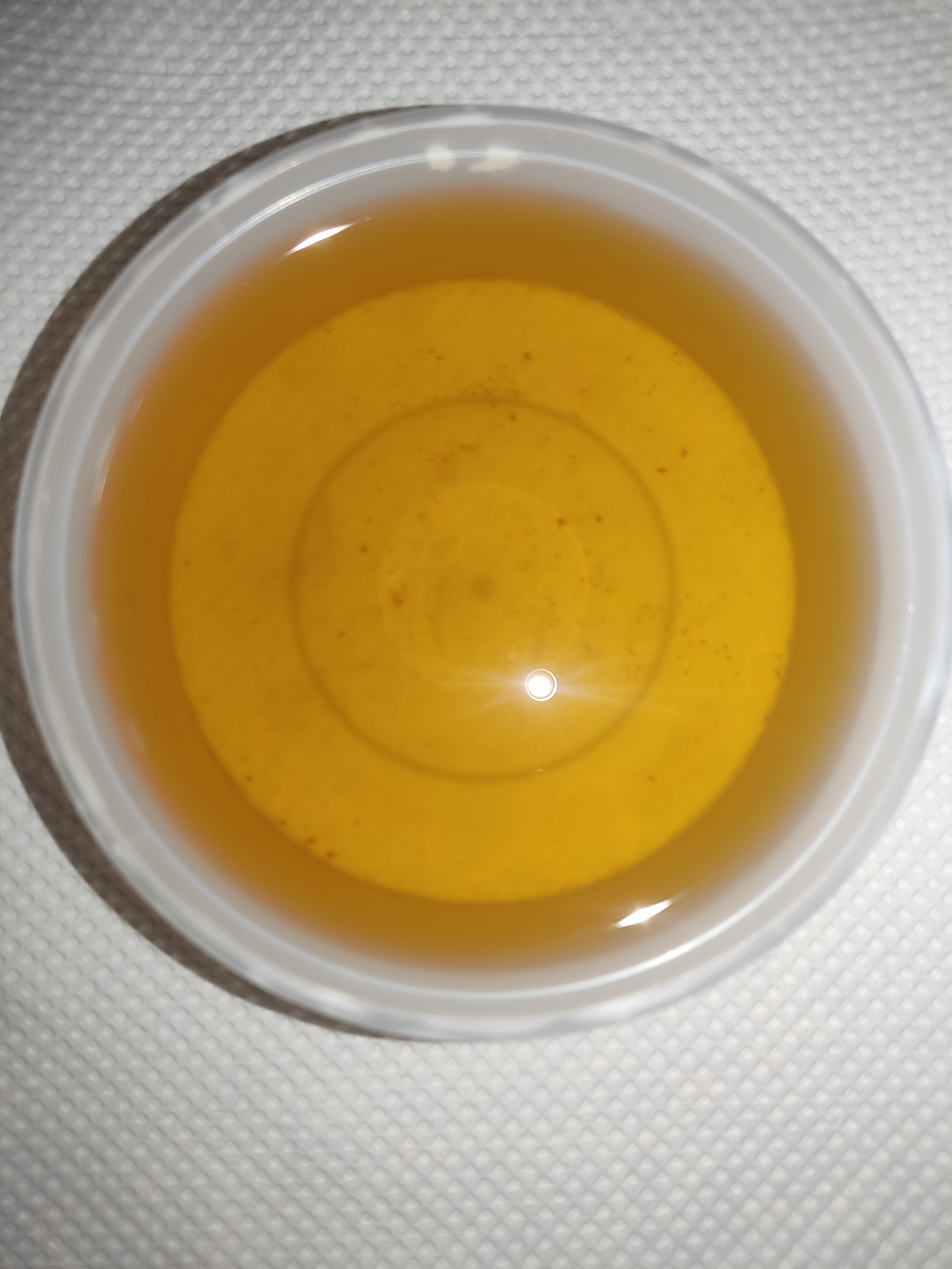reusable: (96, 185, 897, 991)
